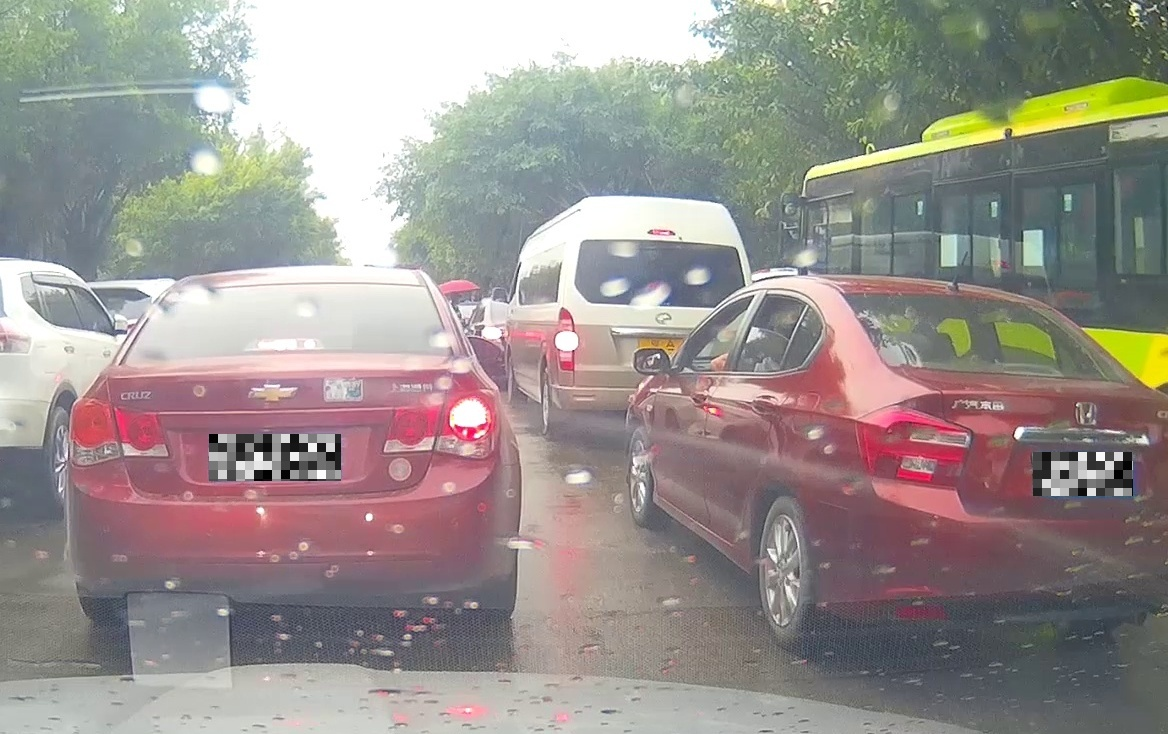L_light: (67, 397, 172, 467)
R_light: (383, 388, 500, 460)
T_light: (248, 337, 320, 351)
day-right: (65, 267, 521, 624)
plate_1: (209, 434, 341, 481)
plate_2: (1033, 452, 1133, 496)
